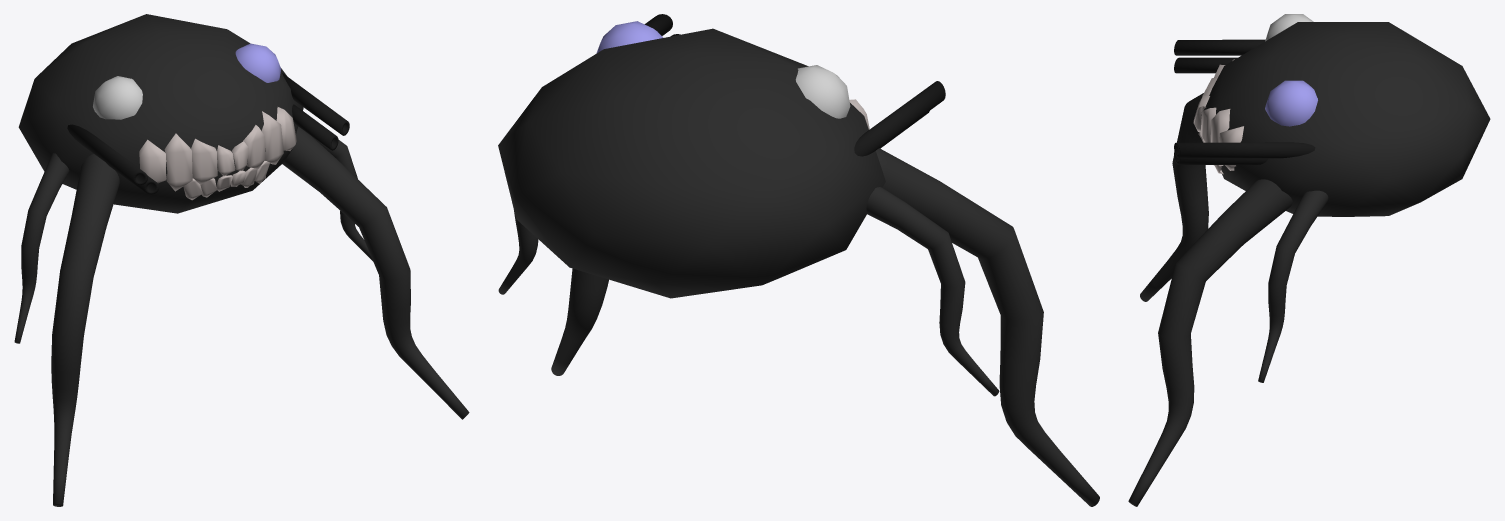
File: symbiote.fbx
The picture shows the model from 3 angles, left to right: view 1: azimuth 30°, elevation 25°; view 2: azimuth 150°, elevation 25°; view 3: azimuth 270°, elevation 25°; orthographic projection. The views are drawn at different scales.
Parts seen in each view (by area): view 1: Symbiote; view 2: Symbiote; view 3: Symbiote.
Boxes of the visible parts, x1,y1,x2,y2 form: Symbiote: (14, 14, 469, 506); Symbiote: (498, 14, 1099, 506); Symbiote: (1128, 14, 1490, 506).
Size of the model in its own units: 97.65 by 72.67 by 82.03.
